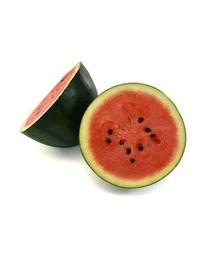watermelon: (20, 59, 189, 191)
